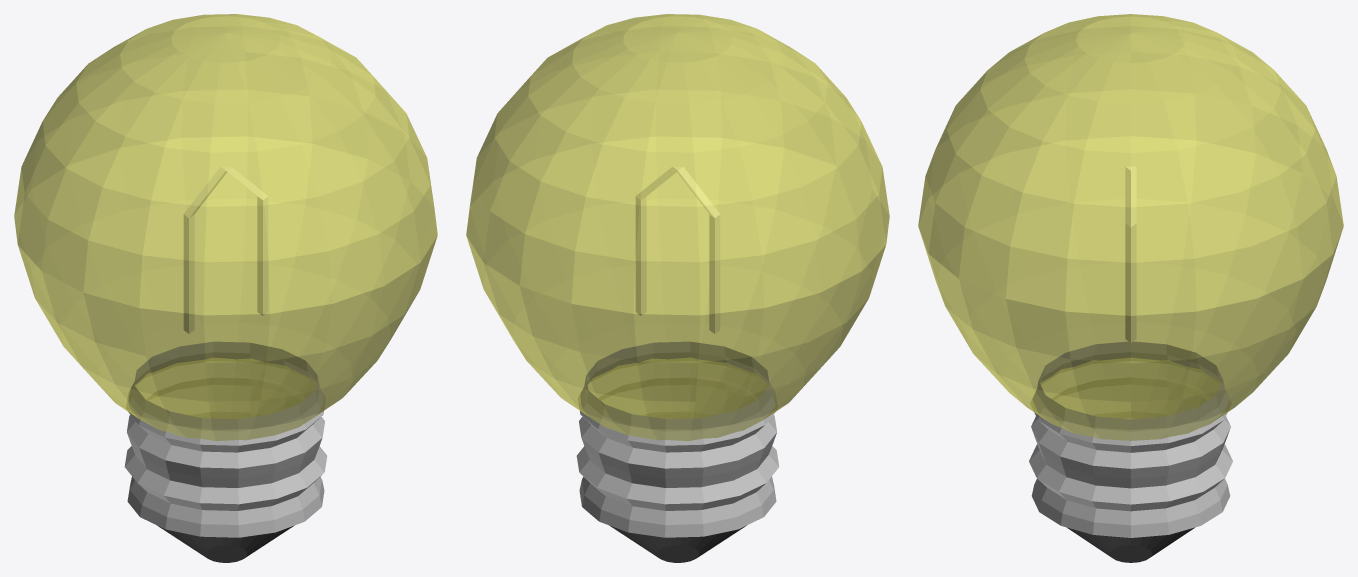
File: bulb.obj
3 views of the same model, side by side, from view 1: azimuth 30°, elevation 25°; view 2: azimuth 150°, elevation 25°; view 3: azimuth 270°, elevation 25° (orthographic).
Visible parts, largest first — view 1: glass, metal, filament, contact; view 2: glass, metal, filament, contact; view 3: glass, metal, filament, contact.
Boxes of the visible parts, x1,y1,x2,y2 form: glass: (14,14,437,440); metal: (124,342,327,537); filament: (184,167,267,333); contact: (157,525,294,562); glass: (466,14,889,440); metal: (576,342,779,537); filament: (636,167,719,333); contact: (609,525,746,562); glass: (918,14,1343,440); metal: (1029,342,1232,537); filament: (1125,167,1136,342); contact: (1067,527,1194,562).
Size of the model in its own units: 20 by 27 by 20.
